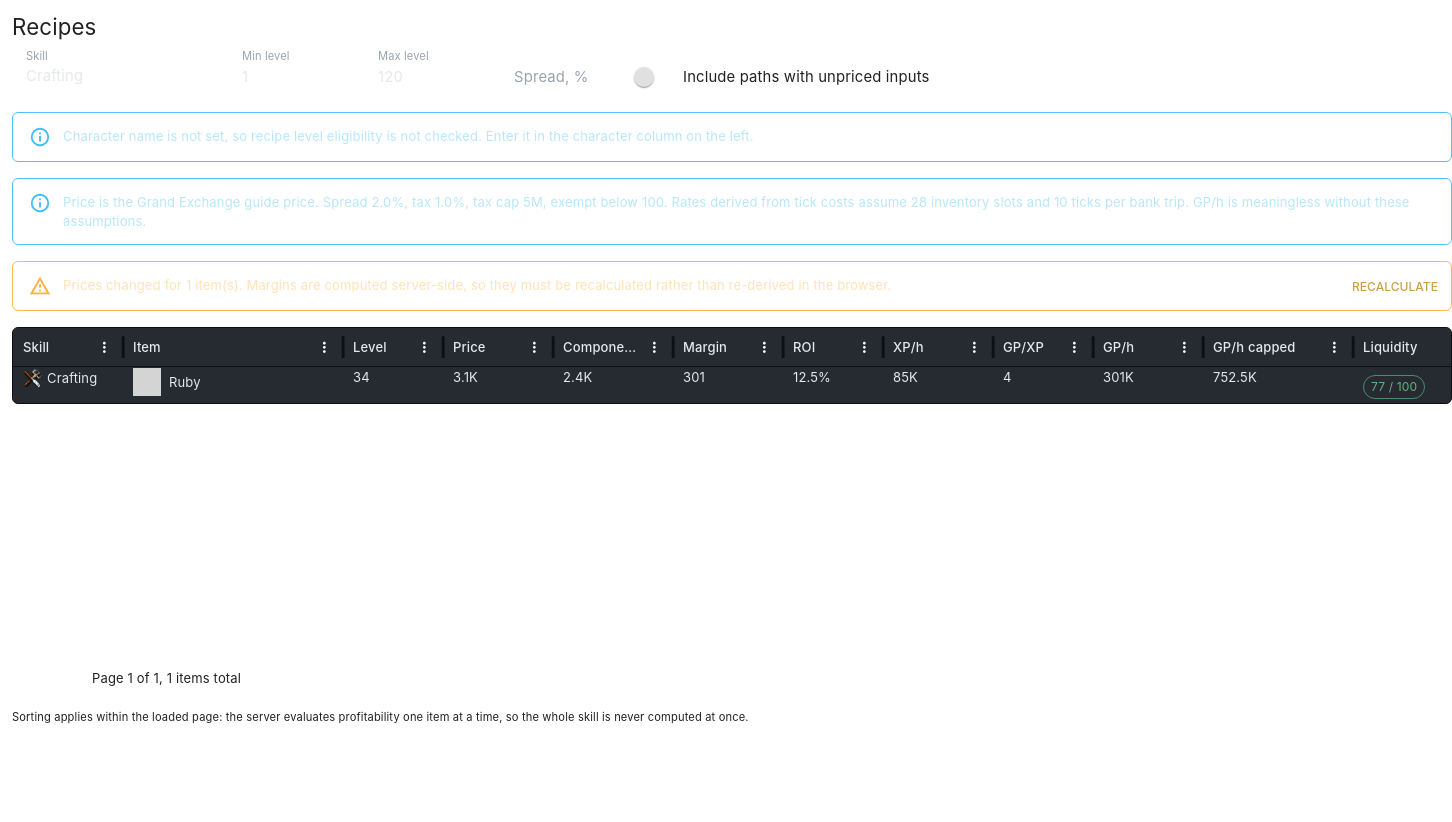
recalculates via a fresh request to the calc endpoint when Recalculate is clicked
The width and height of the screenshot is (1452, 822).
Check: the row "Ruby" is shown, box [13, 367, 1451, 403]
Check: the text "Prices changed for 1 item(s)" is shown, box [63, 277, 892, 293]
Click the button "Recalculate". click: (1395, 287)
box: [1347, 272, 1443, 301]
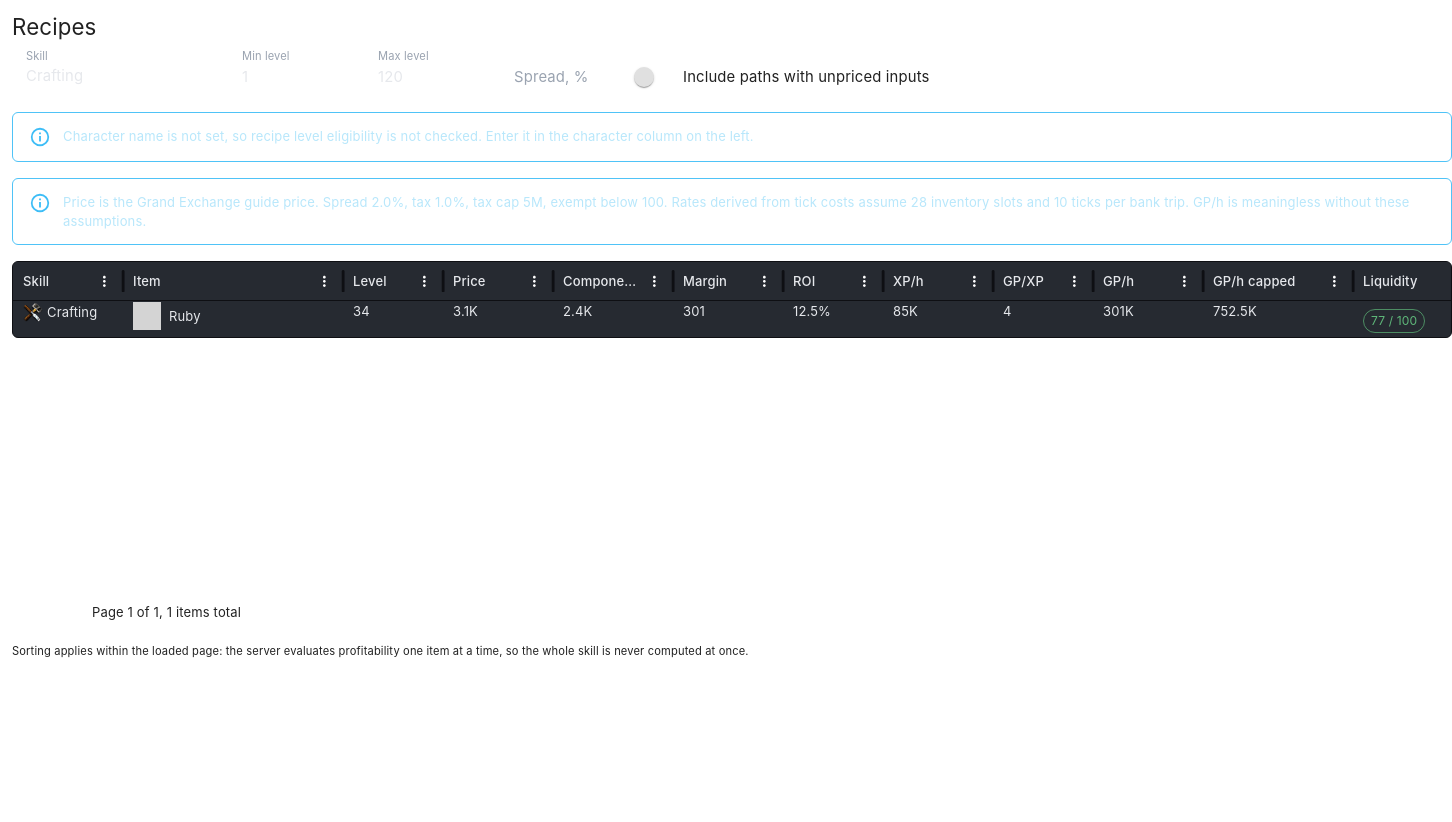
Check: the text "Prices changed for" is gone
